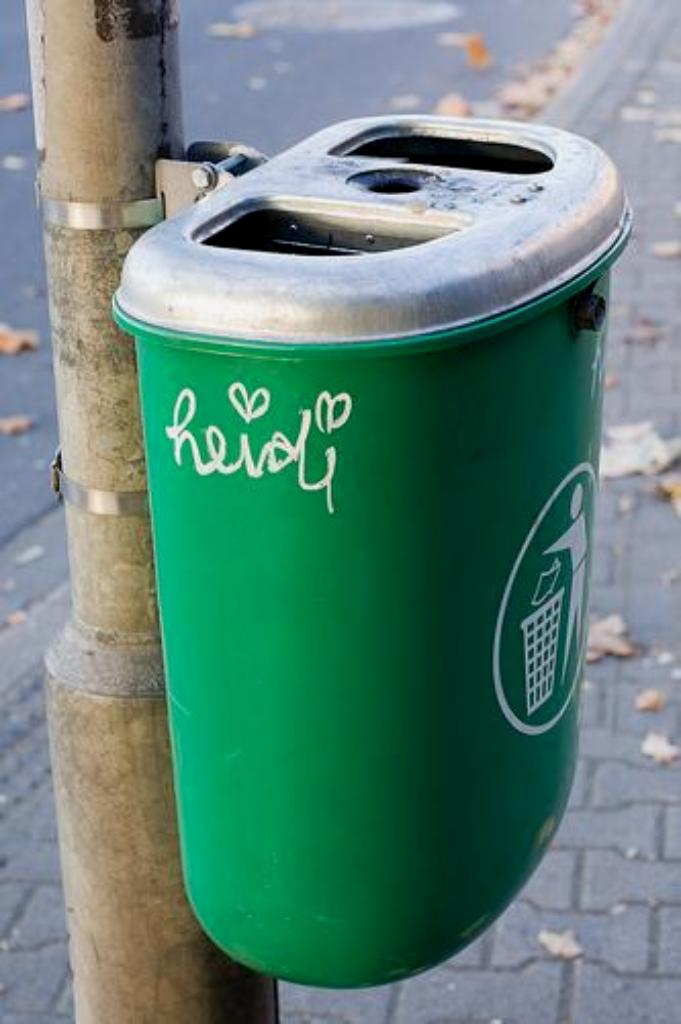dustbin: (117, 106, 651, 970)
